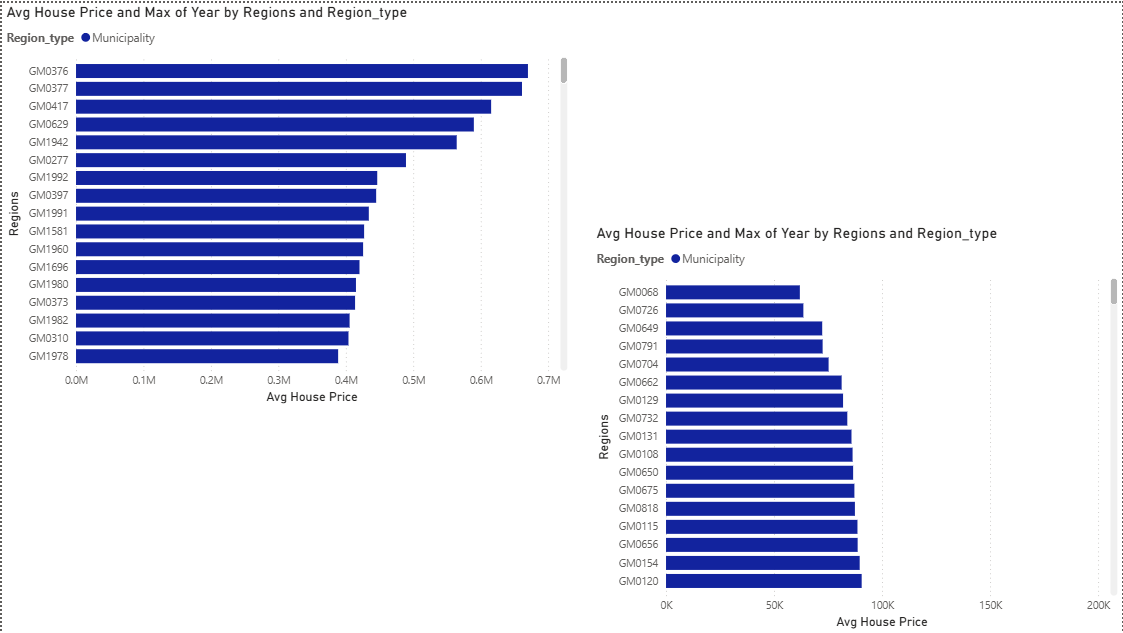

The page's visual inventory and layout, read from the dashboard file:
{"tool":"powerbi","page":{"name":"Page 4","canvas":[1280,720],"ordinal":4},"visuals":[{"type":"barChart","fields":{"Category":["housing.Regions"],"Y":["housing.Avg House Price"],"Series":["housing.Region_type"]},"box":[0,0,651.4,462.9],"z":0},{"type":"barChart","fields":{"Category":["housing.Regions"],"Y":["housing.Avg House Price"],"Series":["housing.Region_type"]},"box":[674.3,252.9,605.7,467.1],"z":1000}]}

Visuals, with their boxes in screenshot pixels (x1, y1, x2, y2), scaled from the page's 1280x720 canvas onto the 1123x633 screenshot:
barChart - housing.Regions x housing.Avg House Price: [x1=0, y1=0, x2=572, y2=407]
barChart - housing.Regions x housing.Avg House Price: [x1=592, y1=222, x2=1122, y2=632]
